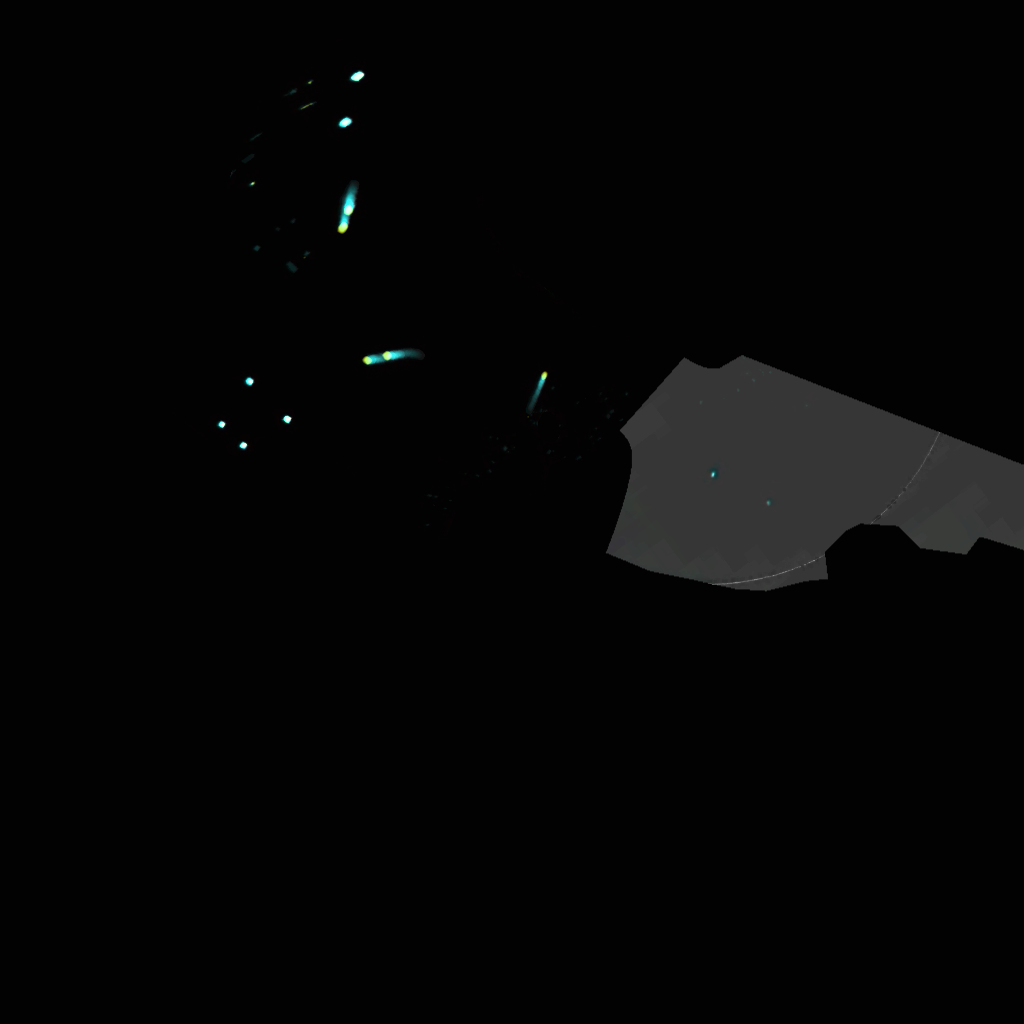B: (531, 370, 549, 405), (342, 183, 359, 219), (382, 348, 418, 361), (362, 352, 387, 367), (337, 210, 351, 236)
